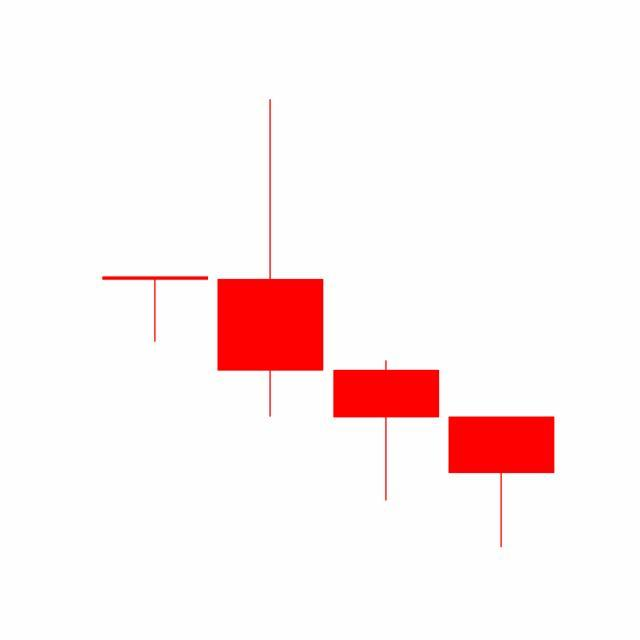Hammer: (329, 359, 445, 503)
